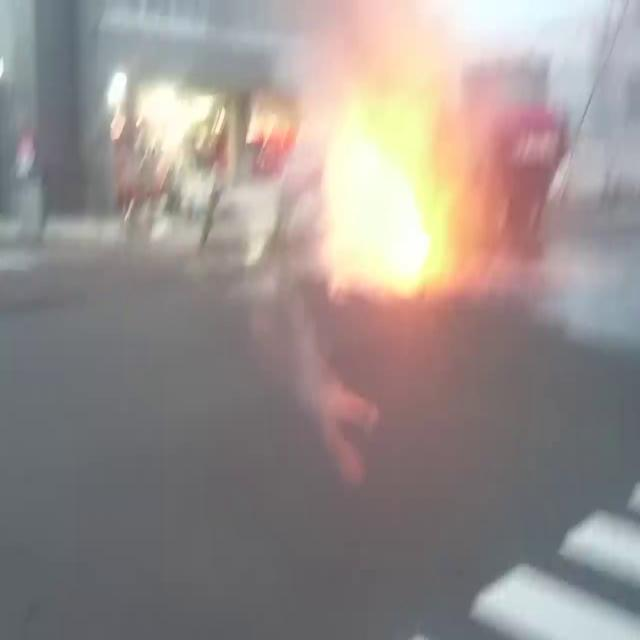Fire: (312, 115, 436, 306)
Smoke: (364, 7, 492, 294)
